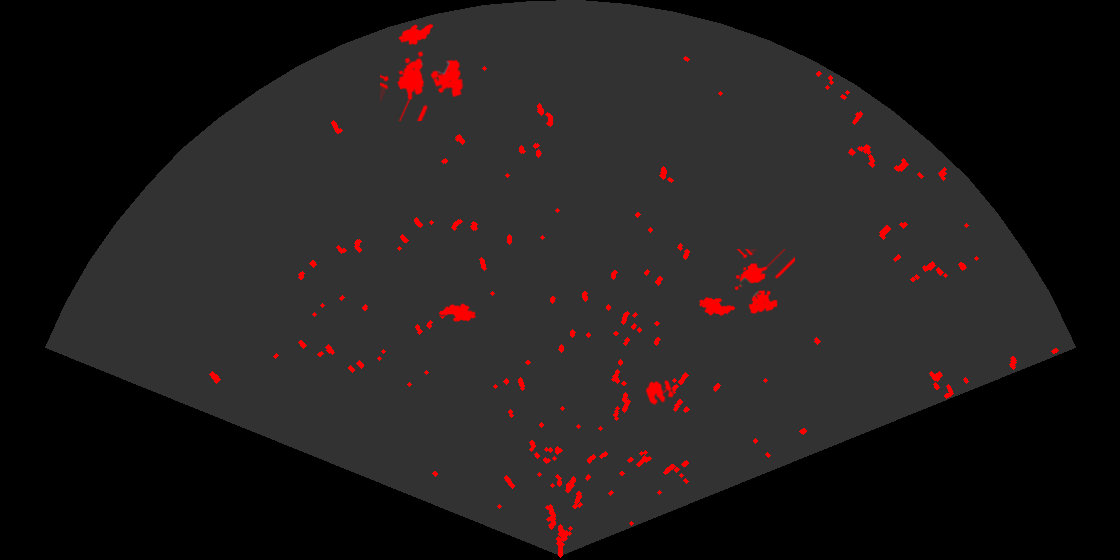AUV: (397, 22, 435, 47), (437, 302, 478, 323), (698, 295, 737, 317)
ball: (644, 378, 675, 407)
cage: (380, 49, 465, 121), (733, 249, 795, 315)
